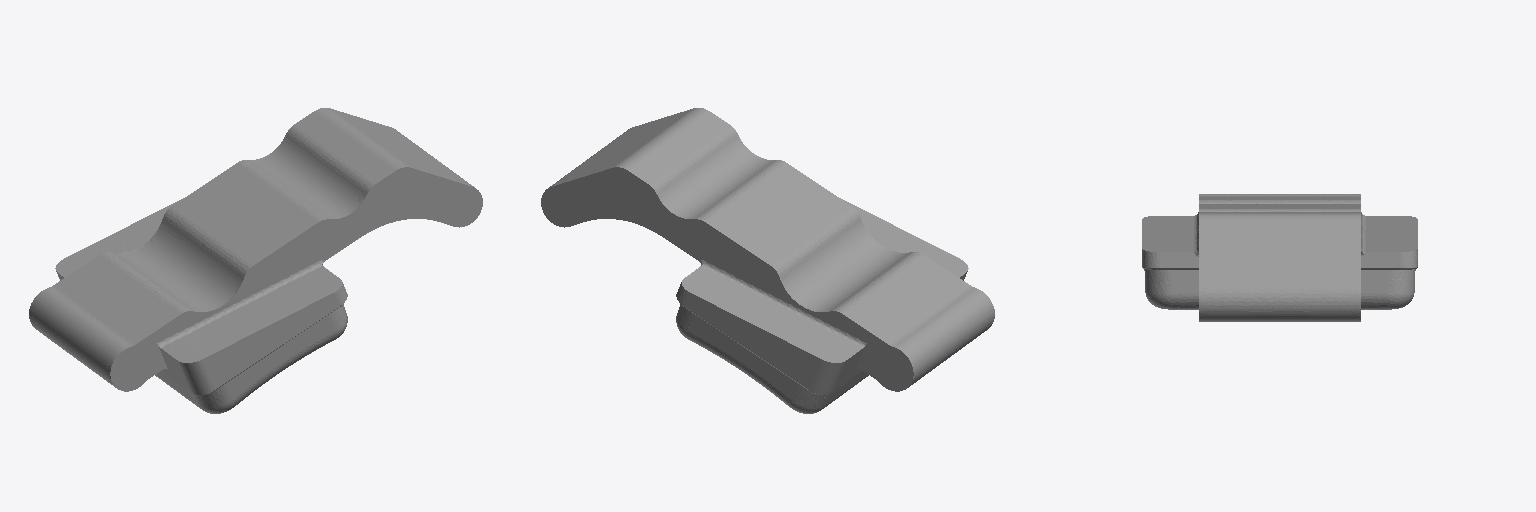
The model's file is float_H_UV_100430.obj.
The picture shows the model from 3 angles: view 1: azimuth 30°, elevation 25°; view 2: azimuth 150°, elevation 25°; view 3: azimuth 270°, elevation 25°; orthographic projection.
Visible parts, largest first — view 1: float_H_float_HShape; view 2: float_H_float_HShape; view 3: float_H_float_HShape.
Boxes of the visible parts, <box> form: float_H_float_HShape: <box>29,108,482,413</box>; float_H_float_HShape: <box>541,108,994,413</box>; float_H_float_HShape: <box>1142,194,1417,321</box>.
Bounding box in the file's own units: 0.0484 × 0.0229 × 0.031.